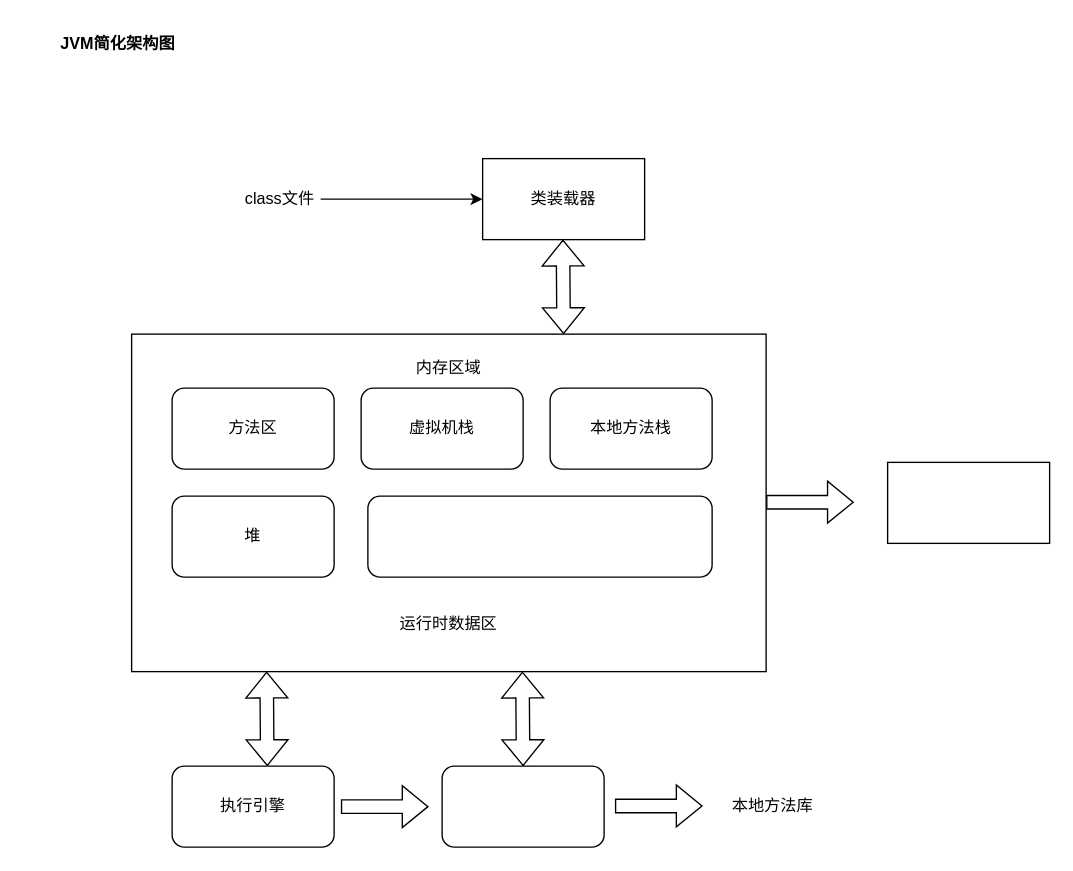
The diagram is 1073 pixels wide and 871 high, and some of its shapes have lost their labels. The shapes that lost their labels are listed below. From the top down, each one's centre as x and y in pixels, then its label:
At [968,502]: "垃圾收集器".
At [539,536]: "程序计数器".
At [522,806]: "本地库接口".
